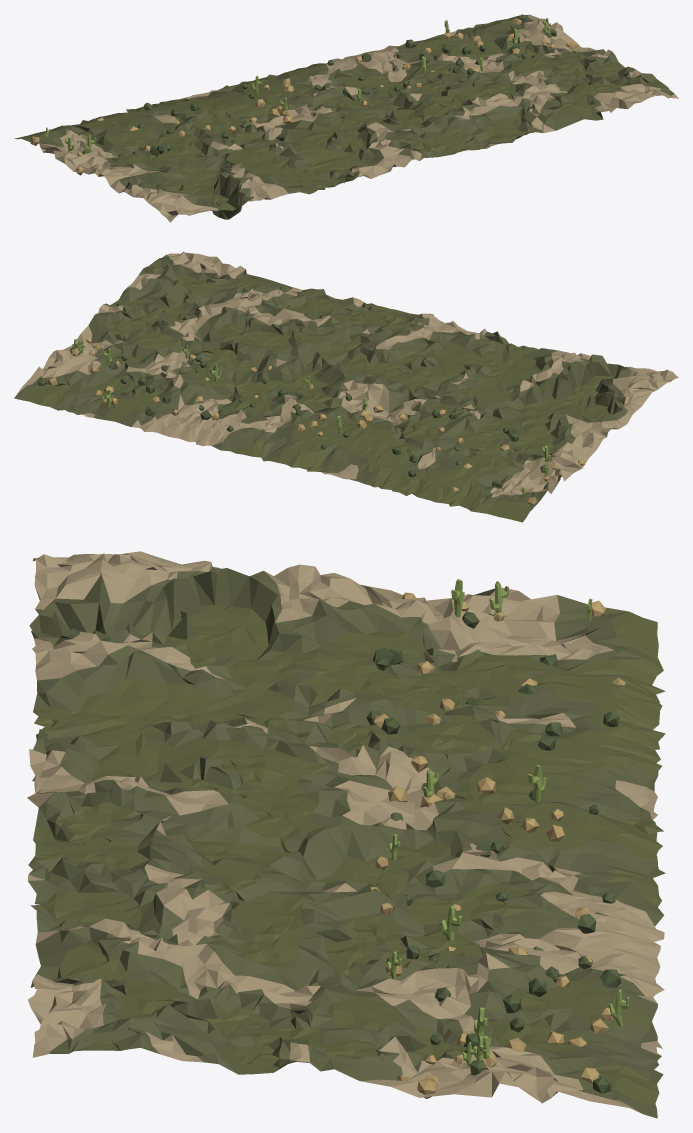
Rendered from desert_ground.fbx.
3 views of the same model, one above another, from view 1: azimuth 30°, elevation 25°; view 2: azimuth 150°, elevation 25°; view 3: azimuth 270°, elevation 25° (orthographic). The views are drawn at different scales.
Visible parts, largest first — view 1: desert_ground; view 2: desert_ground; view 3: desert_ground.
Boxes of the visible parts, x1,y1,x2,y2 form: desert_ground: (14,14,678,222); desert_ground: (14,251,678,522); desert_ground: (27,551,665,1118).
Bounding box in the file's own units: 20000 × 1531 × 10881.
